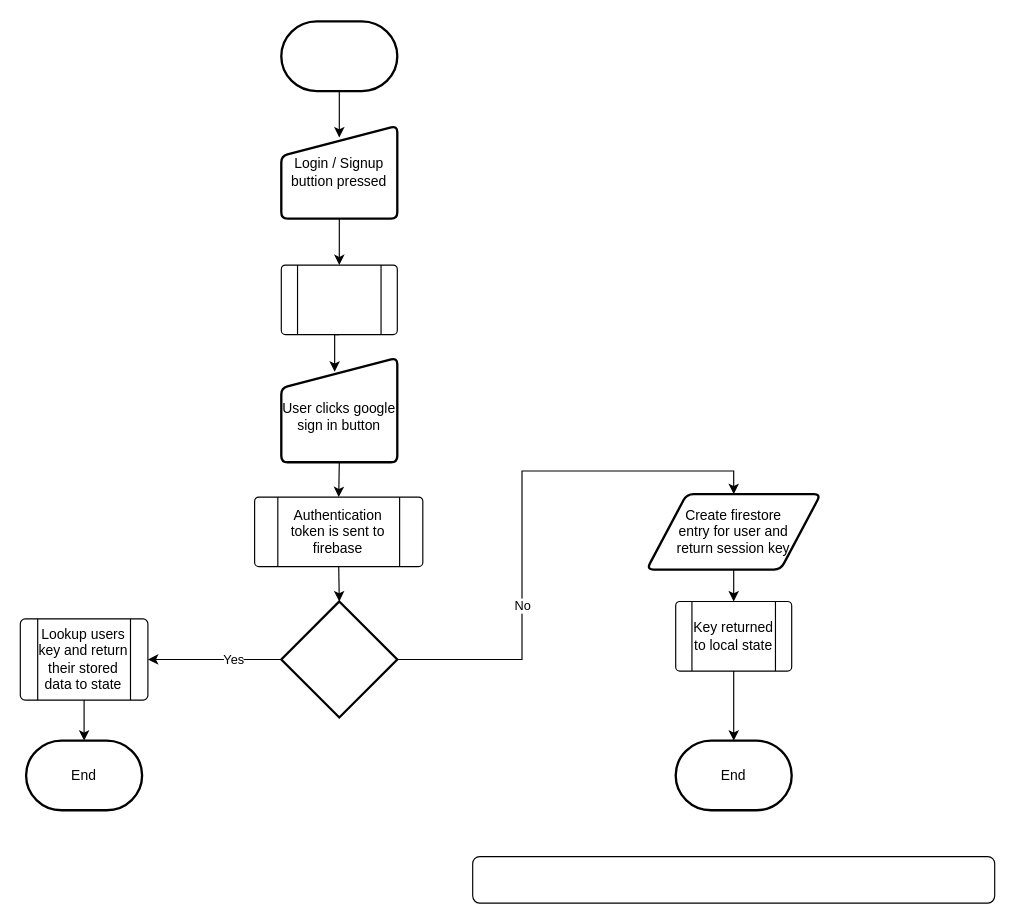
The diagram is 1015 pixels wide and 923 high, and some of its shapes have lost their labels. The shapes that lost their labels are listed below. From the top down, each one's box as (x1, y1, x2, y2) in pixels, then its label:
(280, 20, 398, 92): Start
(280, 264, 397, 335): Display Login Screen
(280, 600, 398, 718): Has user registered?
(472, 855, 995, 903): IBCS Internal Assessment - Finn Lestrange - Authentication Flowchart
